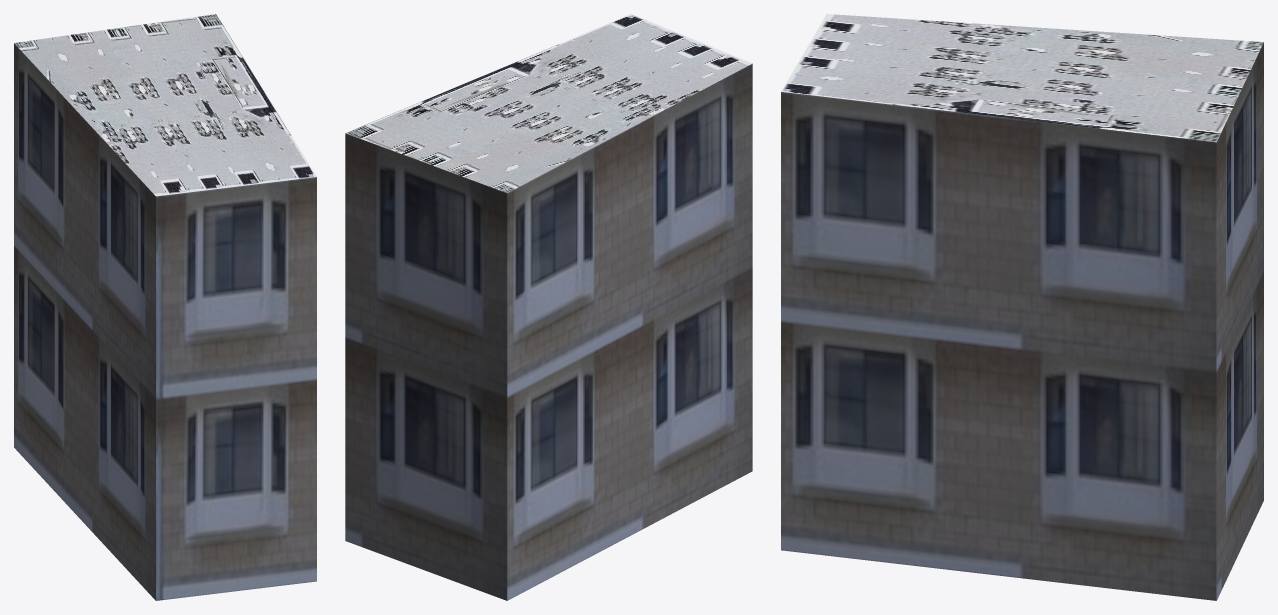
The model's file is ResTex__2656.fbx.
The picture shows the model from 3 angles, left to right: view 1: azimuth 30°, elevation 25°; view 2: azimuth 150°, elevation 25°; view 3: azimuth 270°, elevation 25°; orthographic projection. The views are drawn at different scales.
Parts seen in each view (by area): view 1: CityEngineMaterial_3_m, CityEngineMaterial_4_m; view 2: CityEngineMaterial_3_m, CityEngineMaterial_4_m; view 3: CityEngineMaterial_3_m, CityEngineMaterial_4_m.
Part boxes in pixels (x1,y1,x2,y2): CityEngineMaterial_3_m: (14,43,316,600); CityEngineMaterial_4_m: (14,14,316,196); CityEngineMaterial_3_m: (345,63,752,600); CityEngineMaterial_4_m: (346,14,752,192); CityEngineMaterial_3_m: (781,42,1263,600); CityEngineMaterial_4_m: (781,14,1263,142).
Bounding box in the file's own units: 3.6 × 6 × 5.73.
2 materials, 2 textured.
